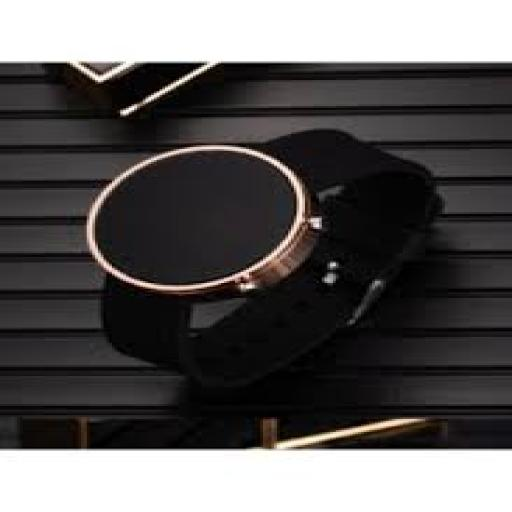KolSaati: (52, 124, 434, 386)
